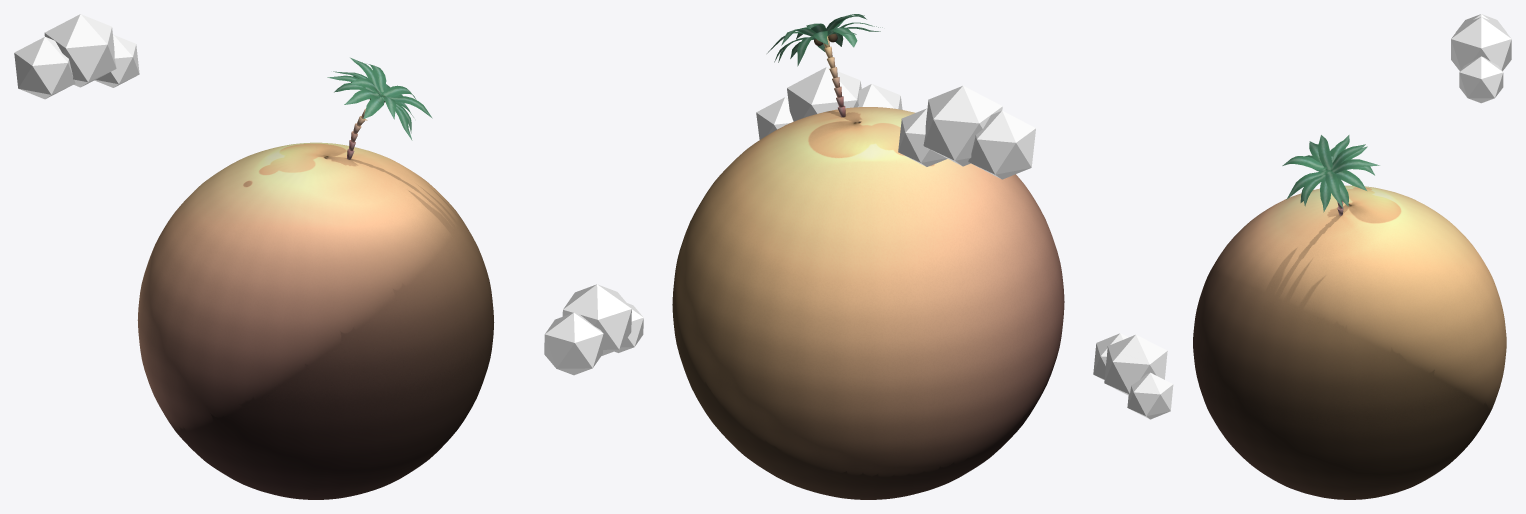
Rendered from Planet.glb.
3 renders of one model, left to right at view 1: azimuth 30°, elevation 25°; view 2: azimuth 150°, elevation 25°; view 3: azimuth 270°, elevation 25°, orthographic. The views are drawn at different scales.
Parts seen in each view (by area): view 1: Planet, Cloud, Cloud.001, PalmTree; view 2: Planet, Cloud, Cloud.001, PalmTree; view 3: Planet, Cloud.001, Cloud, PalmTree.
Part boxes in pixels (x1,y1,x2,y2): Planet: [137, 142, 494, 499]; Cloud: [14, 14, 139, 99]; Cloud.001: [544, 284, 643, 375]; PalmTree: [327, 57, 432, 159]; Planet: [672, 107, 1064, 499]; Cloud: [898, 86, 1035, 179]; Cloud.001: [756, 67, 902, 139]; PalmTree: [767, 14, 882, 117]; Planet: [1193, 185, 1506, 499]; Cloud.001: [1093, 333, 1173, 419]; Cloud: [1451, 14, 1511, 103]; PalmTree: [1282, 135, 1379, 215].
Size of the model in its own units: 31.75 by 31.71 by 30.08.
Materials: 3 (2 with a texture image).
